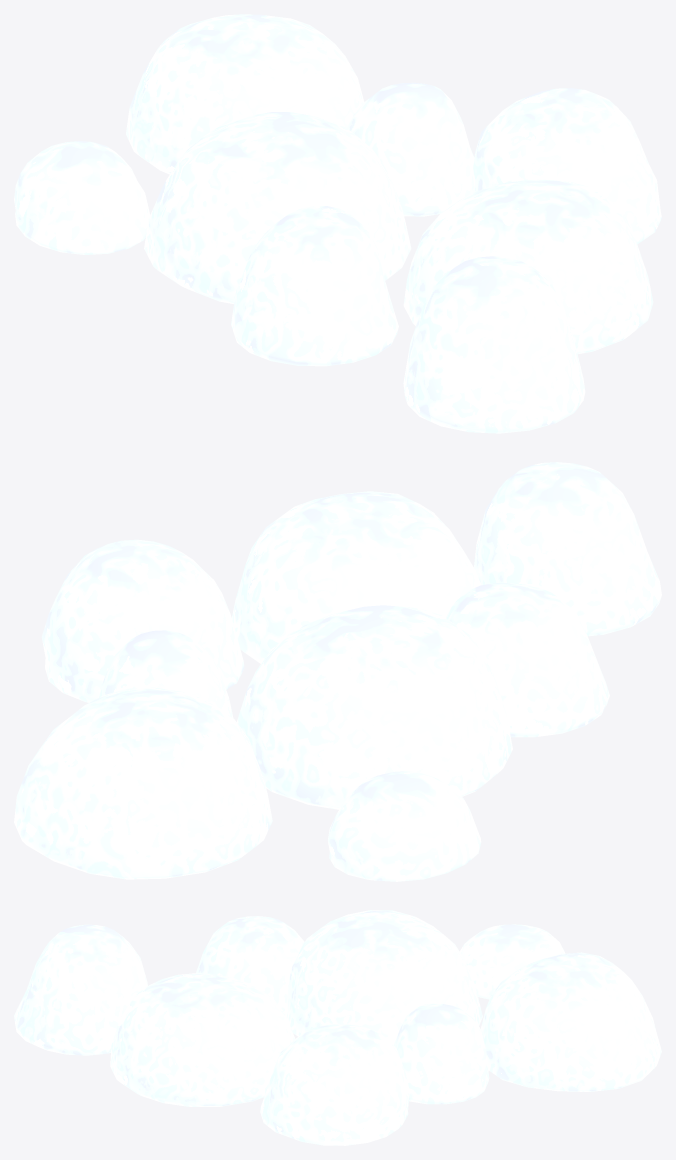
Rendered from 090_round_stones.glb.
3 views of the same model, one above another, from view 1: azimuth 30°, elevation 25°; view 2: azimuth 150°, elevation 25°; view 3: azimuth 270°, elevation 25° (orthographic). The views are drawn at different scales.
Parts seen in each view (by area): view 1: stone_2, stone_6, stone_1, stone_3, stone_4, stone_8, stone_7, stone_5; view 2: stone_2, stone_3, stone_1, stone_6, stone_8, stone_4, stone_7, stone_5; view 3: stone_3, stone_1, stone_2, stone_8, stone_6, stone_5, stone_4, stone_7.
Boxes of the visible parts, x1,y1,x2,y2 form: stone_2: (144, 112, 411, 303); stone_6: (403, 256, 585, 433); stone_1: (403, 179, 653, 353); stone_3: (126, 14, 364, 174); stone_4: (231, 206, 398, 366); stone_8: (470, 88, 661, 244); stone_7: (14, 141, 150, 254); stone_5: (347, 82, 474, 216); stone_2: (237, 605, 512, 809); stone_3: (14, 687, 272, 879); stone_1: (232, 491, 481, 663); stone_6: (474, 462, 661, 636); stone_8: (41, 539, 244, 702); stone_4: (446, 583, 609, 737); stone_7: (328, 771, 481, 881); stone_5: (99, 630, 233, 717); stone_3: (480, 952, 661, 1091); stone_1: (110, 973, 295, 1106); stone_2: (285, 910, 482, 1044); stone_8: (260, 1024, 409, 1145); stone_6: (14, 924, 147, 1055); stone_5: (393, 1003, 489, 1104); stone_4: (196, 916, 304, 1013); stone_7: (459, 924, 565, 999).
Bounding box in the file's own units: 1.49 × 0.3686 × 2.18.
Materials: 1 (1 with a texture image).
